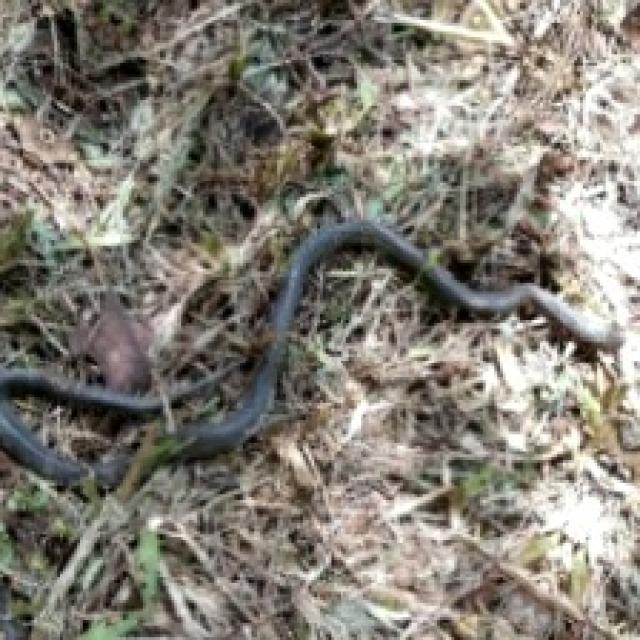gunthers philippine shrub snake: (160, 220, 620, 460), (0, 369, 160, 483)
